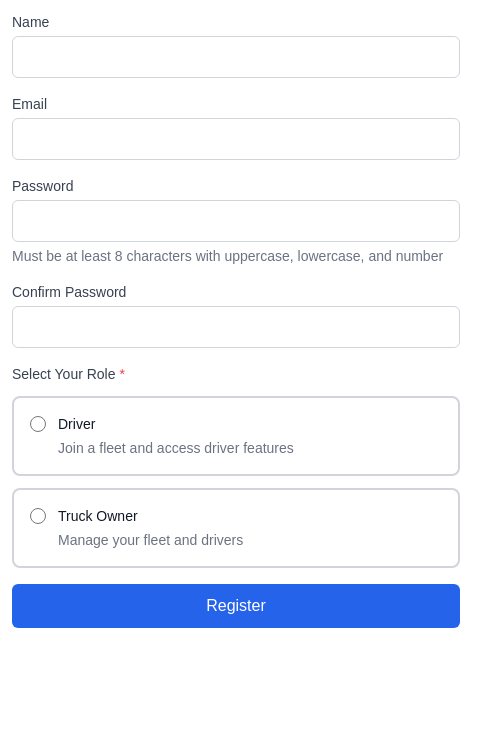
Test: RegisterForm › validates password confirmation match
Type "password123" into the password field labelled "Password" at (236, 221), box [12,200,460,242]
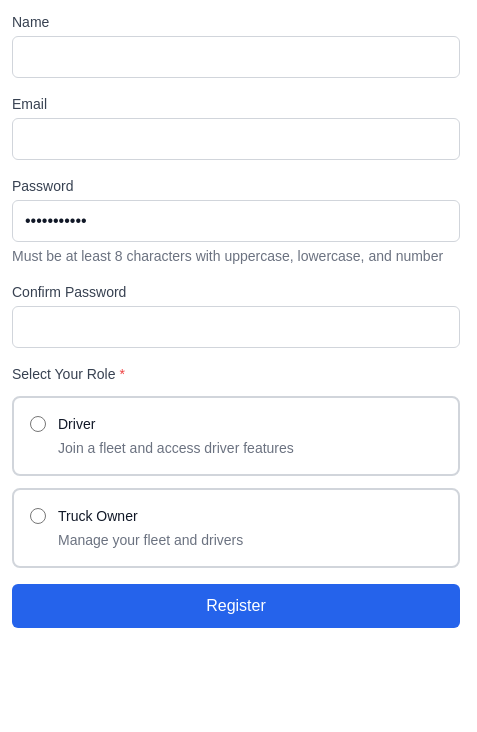
Type "different123" into the password field labelled "Confirm Password" at (236, 327), box [12,306,460,348]
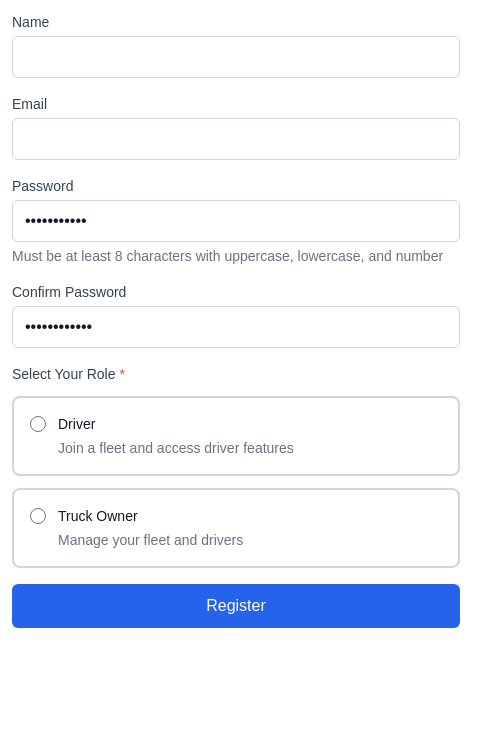
Click the button "Register" at (236, 606), box [12,584,460,628]
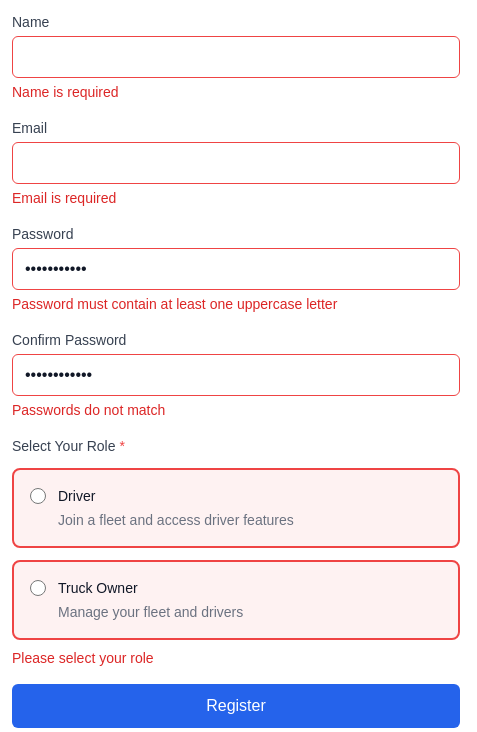
Expected: the text "Passwords do not match" is shown, [12,402,165,418]
